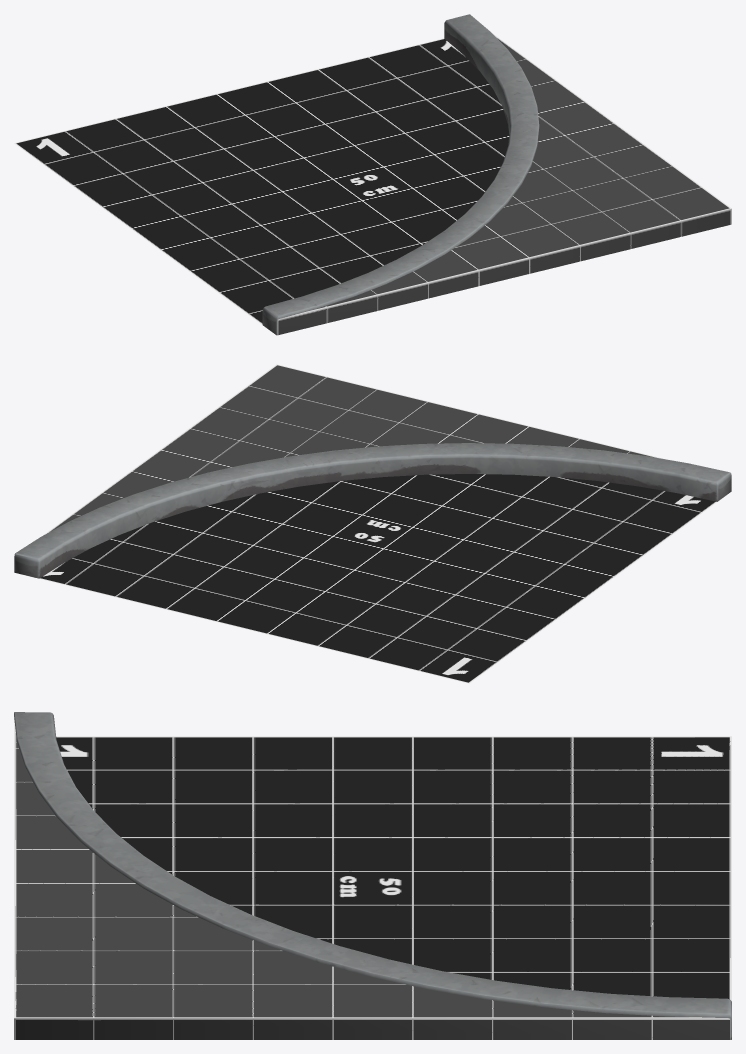
File: M02SideWalk04_2.FBX
3 views of the same model, one above another, from view 1: azimuth 30°, elevation 25°; view 2: azimuth 150°, elevation 25°; view 3: azimuth 270°, elevation 25° (orthographic). The views are drawn at different scales.
Visible parts, largest first — view 1: M02SideWalk04_2; view 2: M02SideWalk04_2; view 3: M02SideWalk04_2.
Boxes of the visible parts, x1=… form: M02SideWalk04_2: x1=14, y1=14, x2=731, y2=335; M02SideWalk04_2: x1=14, y1=364, x2=731, y2=683; M02SideWalk04_2: x1=14, y1=712, x2=731, y2=1039.
Size of what is drawn, in the model's own units: 4.5 by 0.1783 by 4.5.
